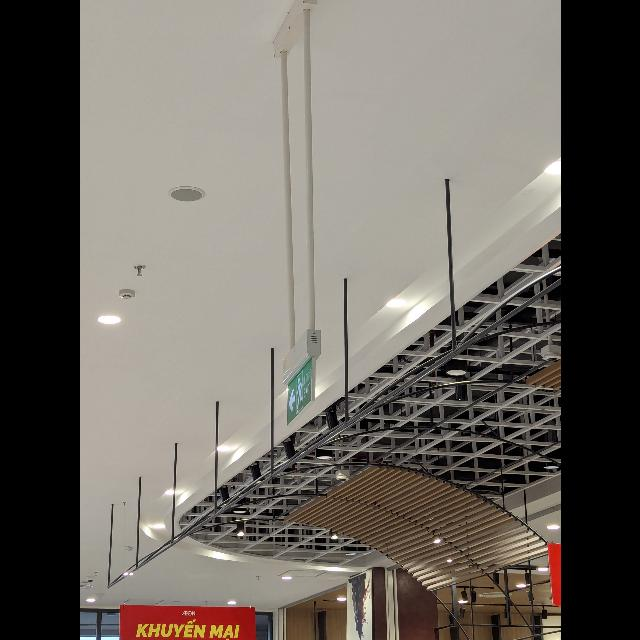exit: (287, 359, 314, 424)
